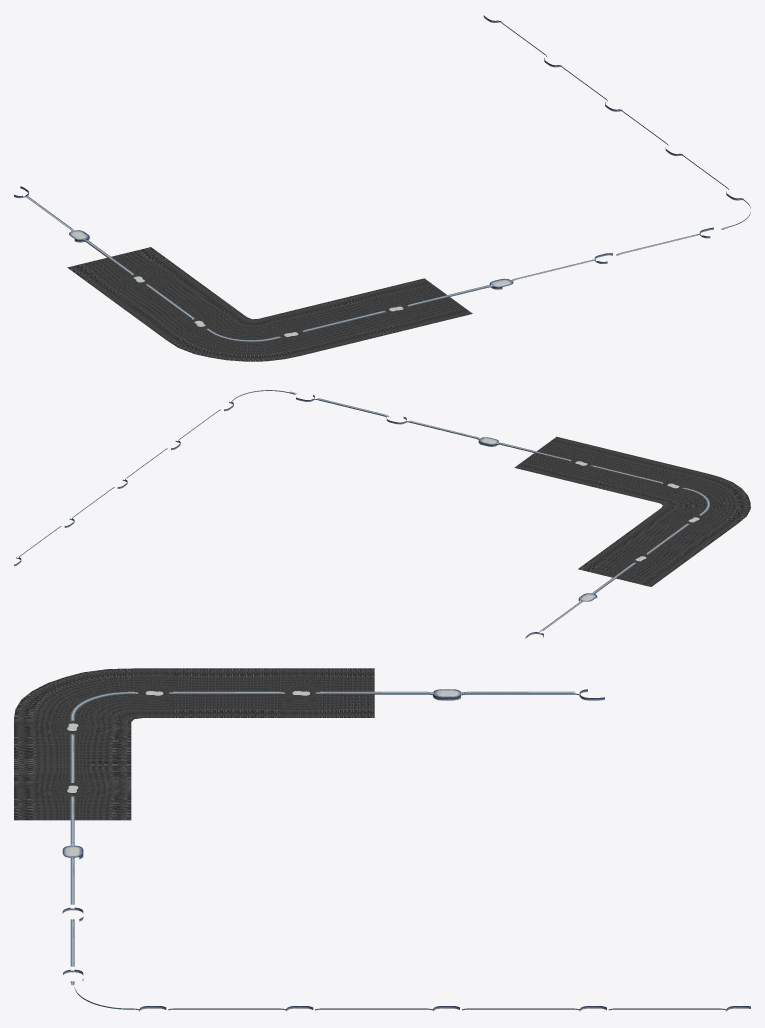
The model's file is Egg_treat1.obj.
The picture shows the model from 3 angles, top to bottom: view 1: azimuth 30°, elevation 25°; view 2: azimuth 150°, elevation 25°; view 3: azimuth 270°, elevation 25°; orthographic projection. The views are drawn at different scales.
Parts seen in each view (by area): view 1: obj2, obj3, obj1; view 2: obj2, obj3, obj1; view 3: obj2, obj3, obj1.
Part boxes in pixels (bbox=[...]): obj2: bbox=[67, 247, 472, 361]; obj3: bbox=[14, 15, 750, 341]; obj1: bbox=[134, 276, 403, 341]; obj2: bbox=[514, 436, 750, 586]; obj3: bbox=[14, 390, 709, 638]; obj1: bbox=[575, 461, 709, 561]; obj2: bbox=[14, 668, 374, 820]; obj3: bbox=[62, 689, 750, 1011]; obj1: bbox=[67, 691, 309, 792].
Size of the model in its own units: 27585 by 130 by 25101.
